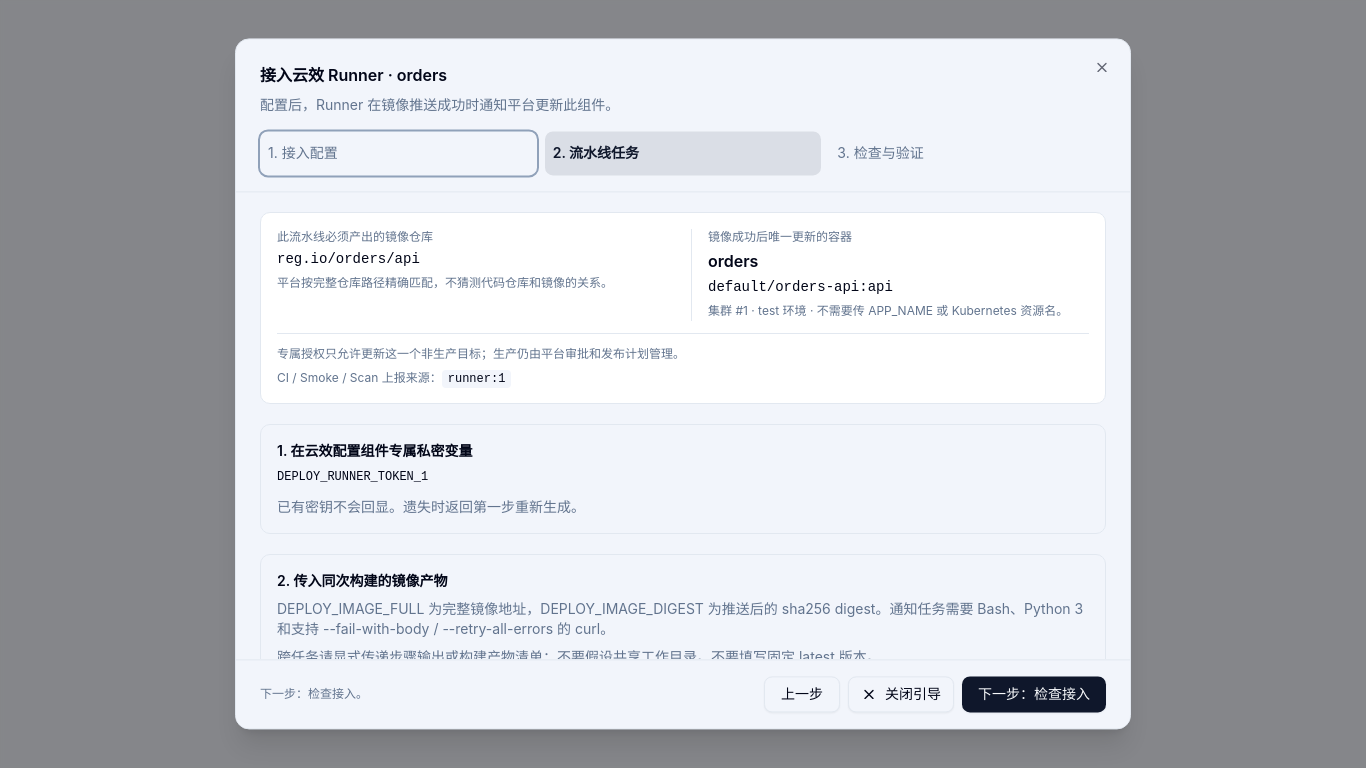
Test case: shows check success independently of a failed rollout
Click the button "3. 检查与验证" at (889, 153), box [829,131,1106,175]
(page scrolled)
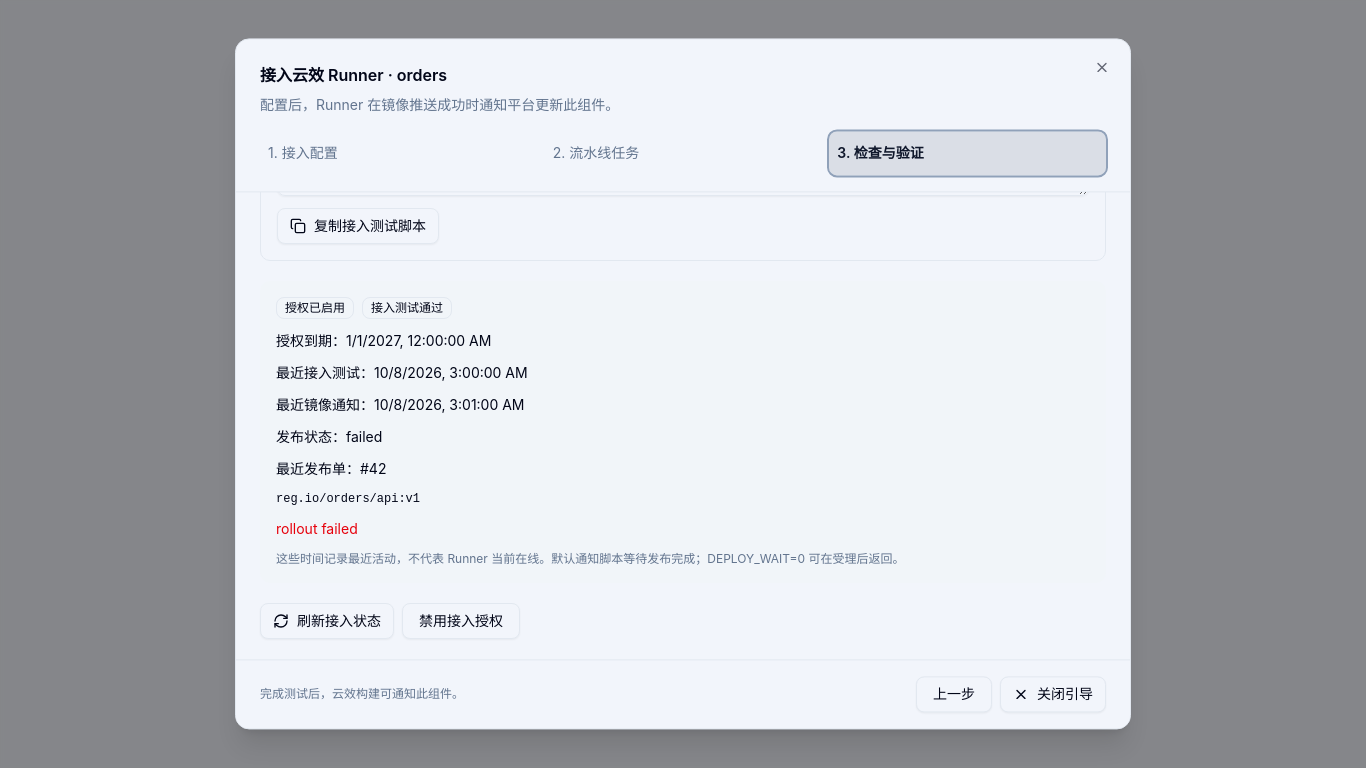
Now the text "接入测试通过" is shown, box [362,297,452,319]
Now the text "rollout failed" is shown, box [276,520,358,537]
Now the text "发布状态：failed" is shown, box [276,428,382,445]
